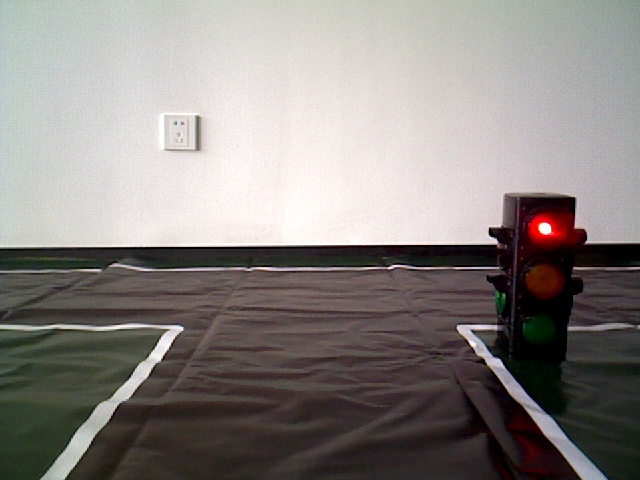red: (492, 195, 572, 357)
